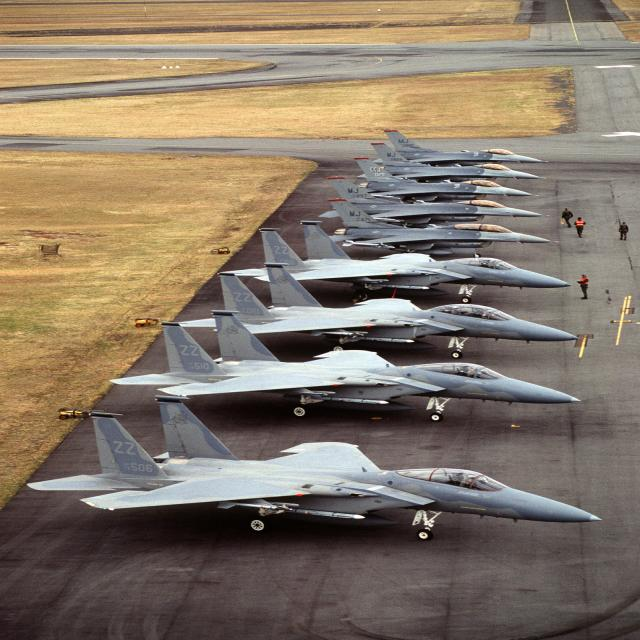MIL_Plane: (26, 396, 604, 541), (108, 310, 583, 422), (178, 262, 580, 360), (219, 220, 572, 304), (325, 198, 561, 258), (318, 176, 551, 228), (352, 156, 540, 204), (369, 142, 547, 183), (383, 129, 549, 167)
